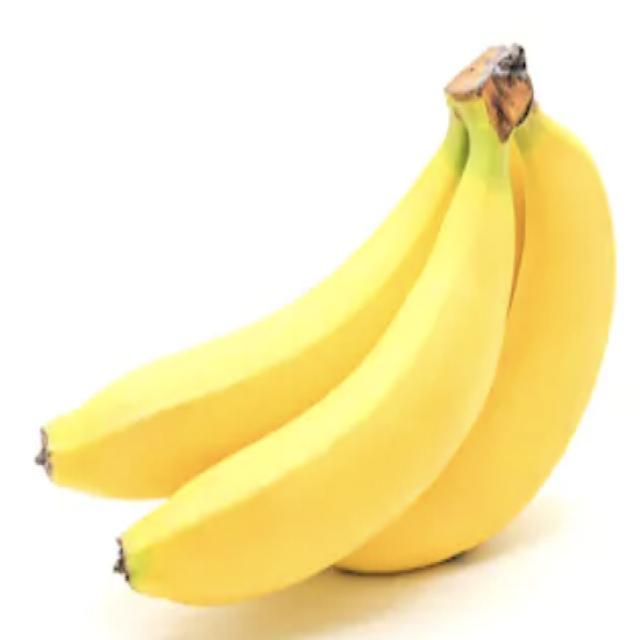Banana: (34, 41, 616, 607)
